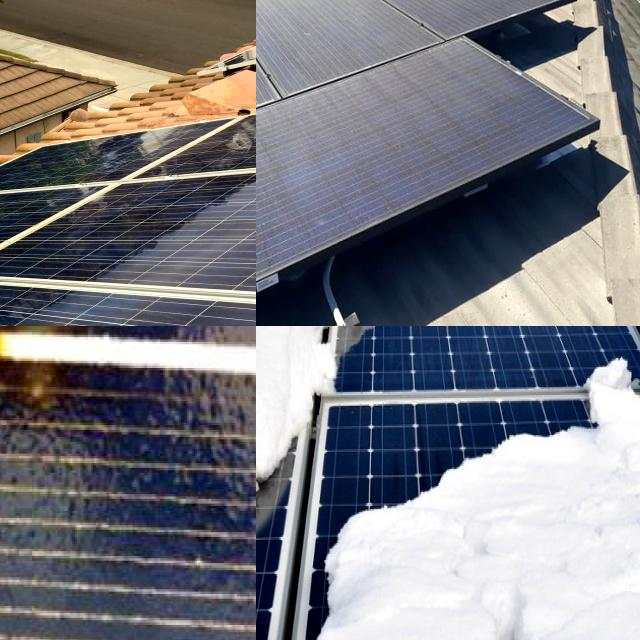crack: (128, 202, 256, 276), (0, 297, 160, 326)
dust: (256, 89, 453, 192), (256, 185, 305, 326), (267, 0, 354, 74), (256, 42, 310, 159), (397, 0, 466, 44)
panel: (323, 398, 621, 640), (256, 326, 361, 601), (360, 326, 562, 404), (256, 326, 336, 348)
shadow: (0, 326, 90, 453)
